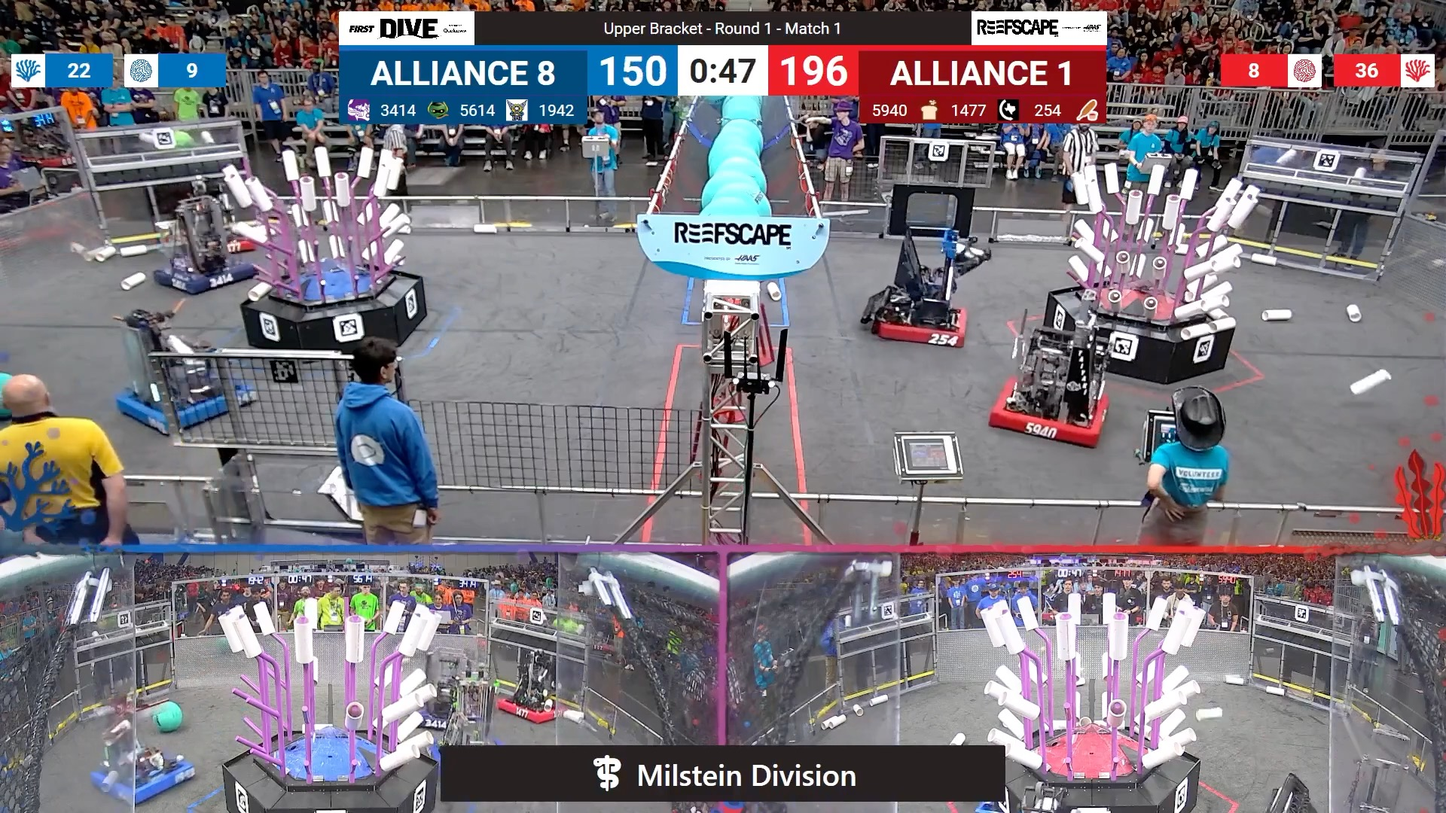bumpers: (977, 371, 1112, 453), (104, 377, 259, 439), (83, 746, 206, 809), (860, 292, 974, 354), (144, 254, 267, 300), (490, 691, 569, 725)
